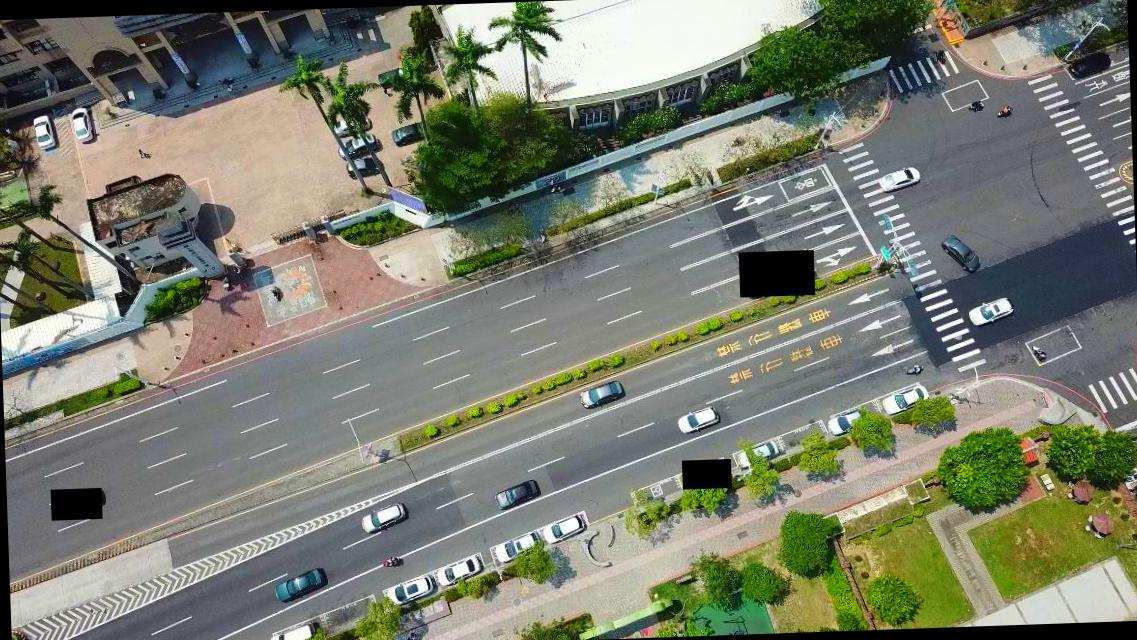vehicle: (276, 566, 326, 602), (433, 551, 481, 587), (387, 572, 435, 606), (360, 504, 408, 534), (968, 298, 1014, 328), (736, 438, 782, 468), (944, 235, 980, 272), (496, 480, 540, 509), (676, 406, 721, 434), (496, 534, 540, 562), (1069, 48, 1111, 77), (883, 387, 928, 414), (580, 382, 624, 408), (545, 515, 584, 544), (825, 408, 868, 434), (878, 166, 920, 192), (337, 132, 380, 156), (390, 119, 429, 145), (344, 152, 383, 178), (30, 114, 58, 150), (266, 621, 321, 639), (70, 106, 96, 142), (332, 113, 372, 135), (374, 68, 409, 86)
